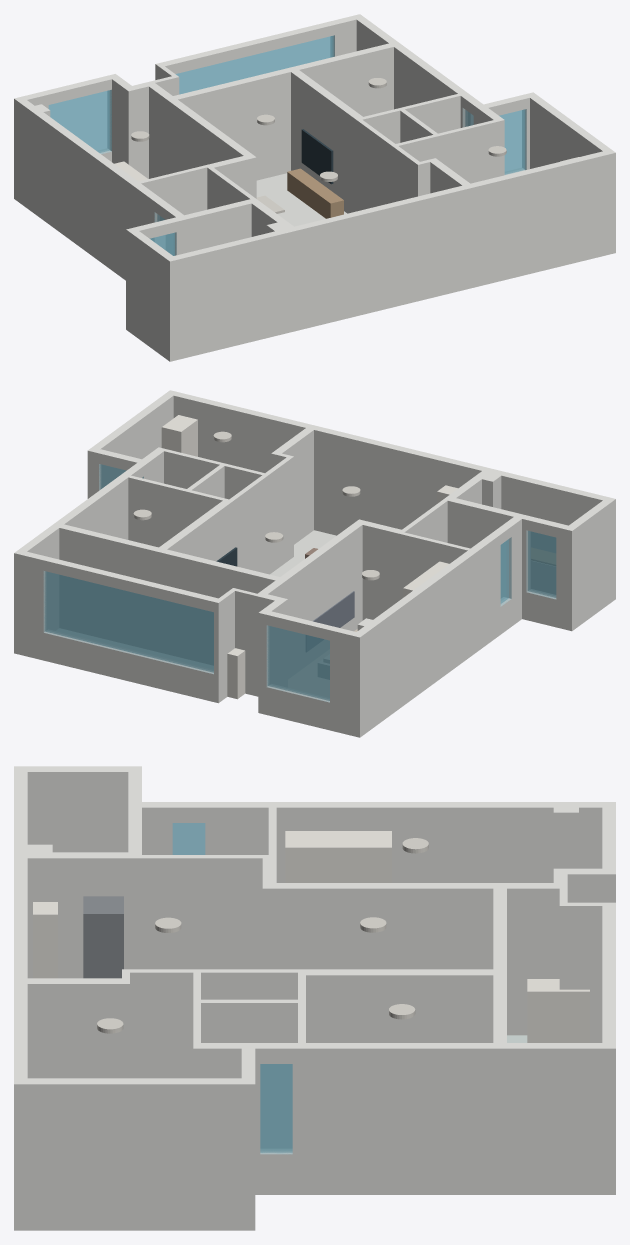
The model's file is Hefu_CAD_v02.fbx.
3 views of the same model, one above another, from view 1: azimuth 30°, elevation 25°; view 2: azimuth 150°, elevation 25°; view 3: azimuth 270°, elevation 25° (orthographic). The views are drawn at different scales.
Parts seen in each view (by area): view 1: 09_CAD_wall_9, 08_CAD_wall_8, 10_CAD_wall_10, 12_CAD_wall_12, 13_CAD_wall_13, 16_CAD_wall_16, 18_CAD_wall_18, 19_CAD_wall_19, 15_CAD_wall_15, 24_CAD_wall_24, 23_CAD_WindowCell_23_glass, 22_CAD_WindowCell_22_glass (+16 smaller); view 2: 10_CAD_wall_10, 09_CAD_wall_9, 08_CAD_wall_8, 12_CAD_wall_12, 13_CAD_wall_13, 21_CAD_WindowCell_21_glass, 22_CAD_WindowCell_22_glass, 15_CAD_wall_15, 16_CAD_wall_16, 20_CAD_wall_20, 21_CAD_WindowCell_21_sill, 18_CAD_wall_18 (+24 smaller); view 3: 13_CAD_wall_13, 08_CAD_wall_8, 12_CAD_wall_12, 10_CAD_wall_10, 15_CAD_wall_15, 09_CAD_wall_9, 16_CAD_wall_16, 18_CAD_wall_18, 31_CAD_wall_31, APPROX_Master_Wardrobe, 33_CAD_wall_33, APPROX_Balcony_Cabinet (+12 smaller).
Part boxes in pixels (x1=…): 09_CAD_wall_9: x1=126, y1=199, x2=412, y2=361; 08_CAD_wall_8: x1=413, y1=92, x2=615, y2=292; 10_CAD_wall_10: x1=14, y1=91, x2=176, y2=280; 12_CAD_wall_12: x1=107, y1=63, x2=256, y2=198; 13_CAD_wall_13: x1=331, y1=14, x2=470, y2=142; 16_CAD_wall_16: x1=271, y1=63, x2=367, y2=213; 18_CAD_wall_18: x1=378, y1=103, x2=504, y2=205; 19_CAD_wall_19: x1=199, y1=72, x2=275, y2=180; 15_CAD_wall_15: x1=165, y1=164, x2=261, y2=255; 24_CAD_wall_24: x1=408, y1=189, x2=451, y2=302; 23_CAD_WindowCell_23_glass: x1=176, y1=35, x2=334, y2=94; 22_CAD_WindowCell_22_glass: x1=176, y1=36, x2=333, y2=93; 10_CAD_wall_10: x1=330, y1=532, x2=500, y2=737; 09_CAD_wall_9: x1=369, y1=440, x2=615, y2=631; 08_CAD_wall_8: x1=87, y1=390, x2=333, y2=559; 12_CAD_wall_12: x1=214, y1=519, x2=368, y2=714; 13_CAD_wall_13: x1=14, y1=472, x2=193, y2=660; 21_CAD_WindowCell_21_glass: x1=43, y1=571, x2=213, y2=673; 22_CAD_WindowCell_22_glass: x1=45, y1=572, x2=213, y2=671; 15_CAD_wall_15: x1=395, y1=495, x2=530, y2=626; 16_CAD_wall_16: x1=142, y1=498, x2=233, y2=655; 20_CAD_wall_20: x1=81, y1=530, x2=146, y2=647; 21_CAD_WindowCell_21_sill: x1=43, y1=631, x2=213, y2=701; 18_CAD_wall_18: x1=133, y1=447, x2=271, y2=574; 13_CAD_wall_13: x1=292, y1=998, x2=615, y2=1194; 08_CAD_wall_8: x1=14, y1=967, x2=255, y2=1230; 12_CAD_wall_12: x1=262, y1=868, x2=615, y2=1042; 10_CAD_wall_10: x1=205, y1=802, x2=615, y2=882; 15_CAD_wall_15: x1=122, y1=799, x2=276, y2=969; 09_CAD_wall_9: x1=14, y1=766, x2=141, y2=978; 16_CAD_wall_16: x1=298, y1=959, x2=506, y2=1042; 18_CAD_wall_18: x1=188, y1=969, x2=260, y2=1194; 31_CAD_wall_31: x1=135, y1=969, x2=187, y2=1078; APPROX_Master_Wardrobe: x1=285, y1=831, x2=391, y2=882; 33_CAD_wall_33: x1=245, y1=999, x2=292, y2=1147; APPROX_Balcony_Cabinet: x1=527, y1=979, x2=589, y2=1042.
Size of the model in its own units: 1256 by 274 by 1006.
